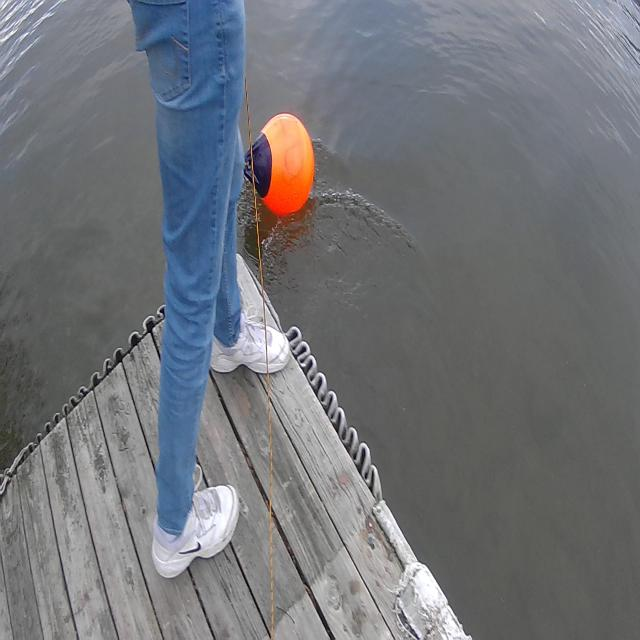Buoy: (248, 108, 317, 222)
